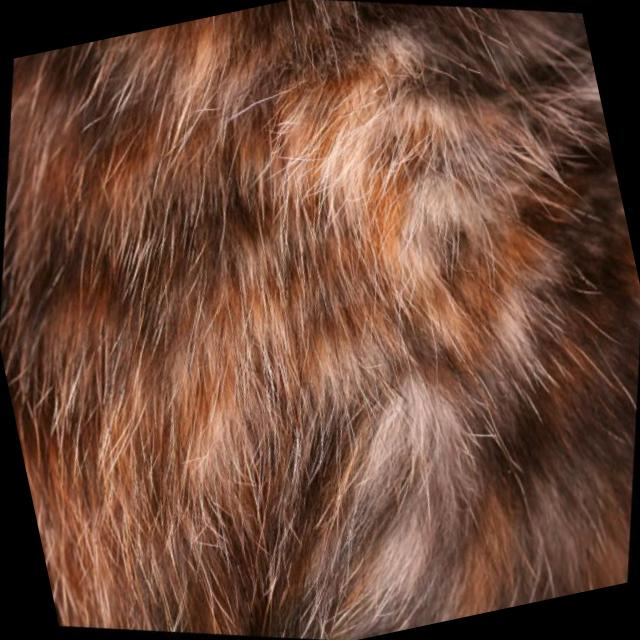Healthy skin: (0, 0, 394, 423), (251, 266, 640, 640), (284, 0, 637, 334), (6, 326, 333, 640)
